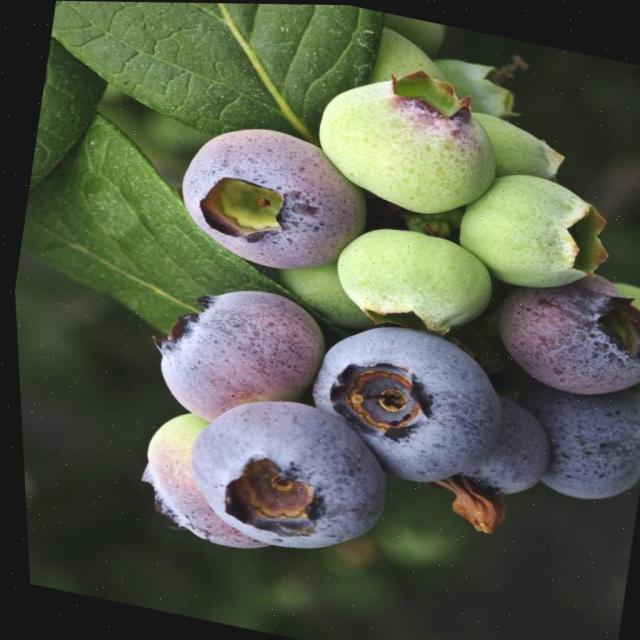RipeBlueBerry: (166, 381, 404, 568), (288, 306, 518, 498), (504, 369, 640, 512)
Semi-RipeBlueBerry: (160, 111, 381, 287), (133, 268, 333, 443), (482, 256, 640, 410)
UnripeBlueBerry: (298, 55, 514, 230), (447, 160, 619, 305), (319, 213, 502, 344)
